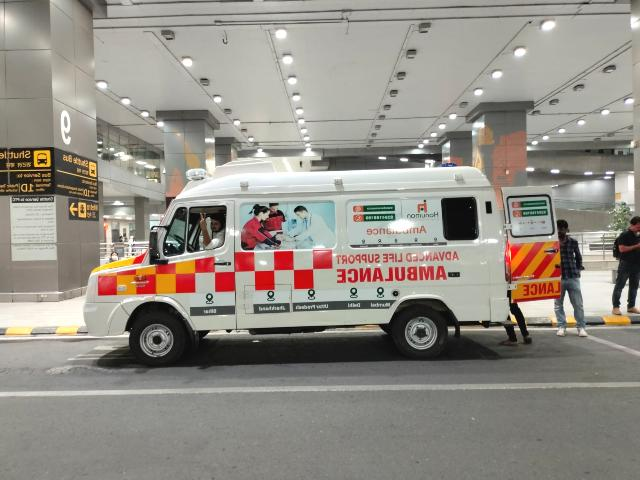ambulance: (83, 160, 560, 368)
